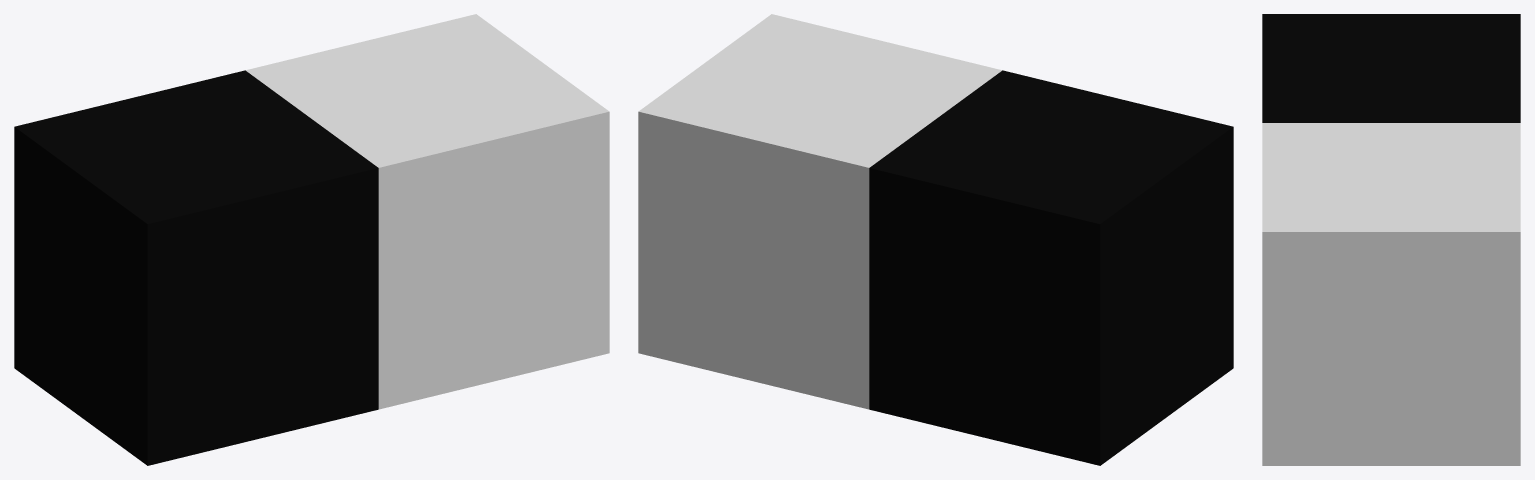
The model's file is blocks.gltf.
The picture shows the model from 3 angles, left to right: view 1: azimuth 30°, elevation 25°; view 2: azimuth 150°, elevation 25°; view 3: azimuth 270°, elevation 25°; orthographic projection. The views are drawn at different scales.
Visible parts, largest first — view 1: black of illusion-convcol, particles-convcol; view 2: black of illusion-convcol, particles-convcol; view 3: particles-convcol, black of illusion-convcol.
Boxes of the visible parts, bbox=[...] form: black of illusion-convcol: bbox=[14, 70, 378, 465]; particles-convcol: bbox=[246, 14, 609, 409]; black of illusion-convcol: bbox=[869, 70, 1233, 465]; particles-convcol: bbox=[638, 14, 1001, 409]; particles-convcol: bbox=[1262, 123, 1520, 465]; black of illusion-convcol: bbox=[1262, 14, 1520, 122].
Bounding box in the file's own units: 2 × 1 × 1.
2 materials, 1 textured.
